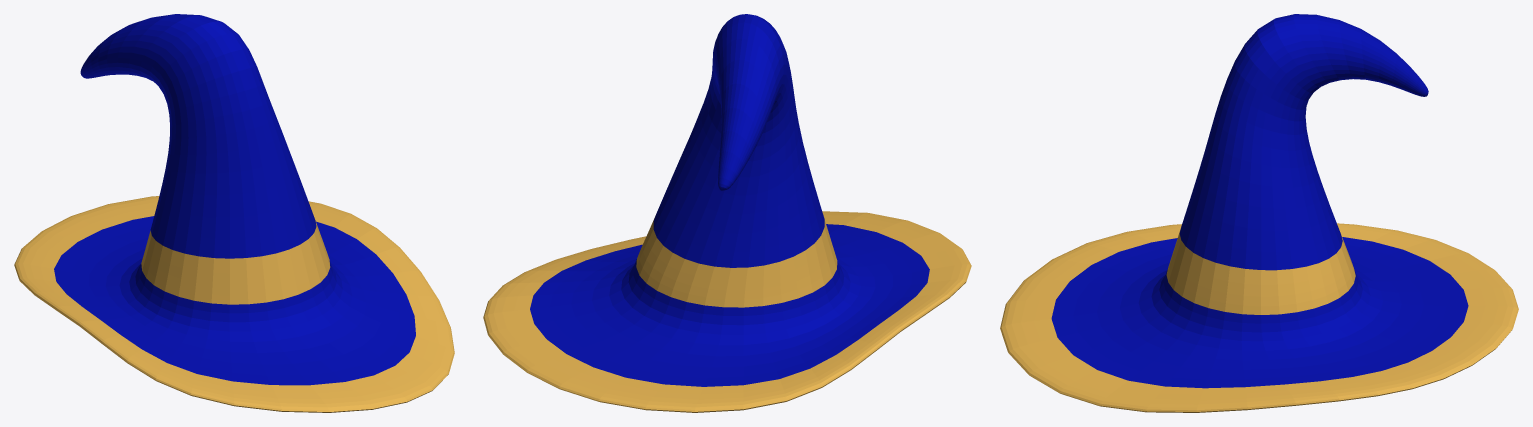
File: WizardHat.fbx
3 renders of one model, left to right at view 1: azimuth 30°, elevation 25°; view 2: azimuth 150°, elevation 25°; view 3: azimuth 270°, elevation 25°, orthographic. The views are drawn at different scales.
Parts seen in each view (by area): view 1: WizardHat; view 2: WizardHat; view 3: WizardHat.
Boxes of the visible parts, <box> form: WizardHat: <box>14,14,454,412</box>; WizardHat: <box>483,14,971,412</box>; WizardHat: <box>1000,14,1518,412</box>.
Size of the model in its own units: 89.69 by 67.62 by 58.87.
